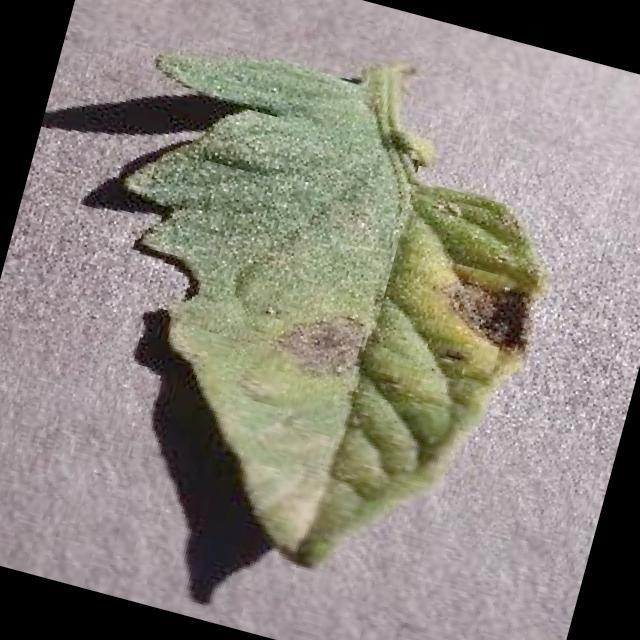Tomato Early blight leaf: (41, 21, 588, 613)
